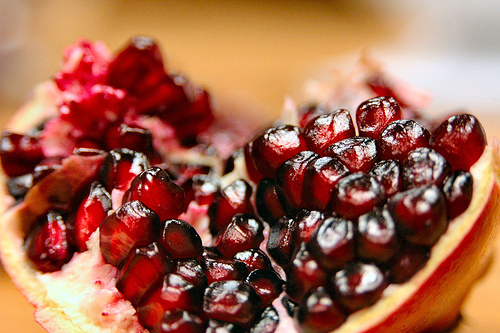pomogranate: (0, 33, 498, 332)
